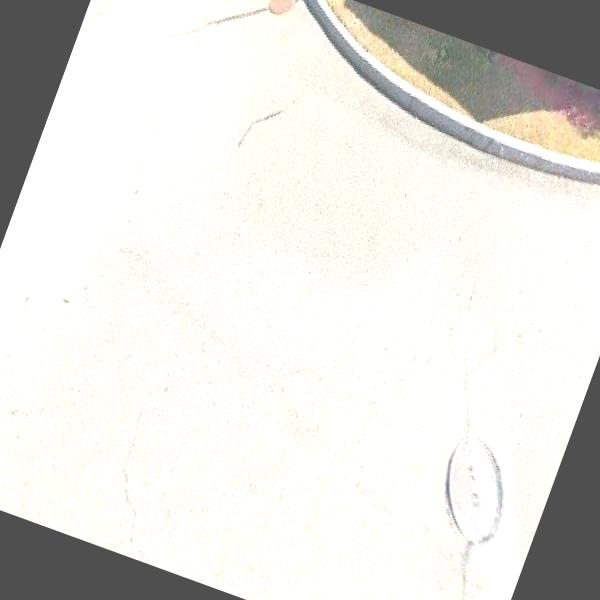manhole: (415, 426, 533, 562), (261, 0, 299, 29)
